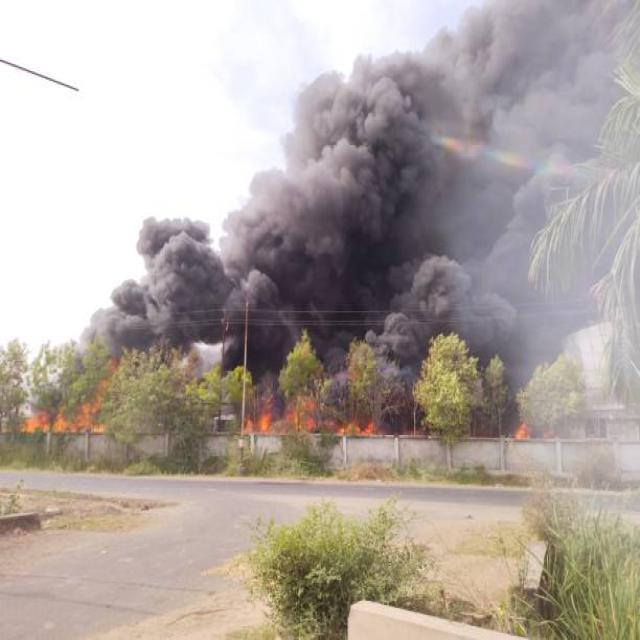Fire: (242, 403, 376, 441), (22, 410, 112, 435), (514, 421, 532, 442)
Smoke: (256, 180, 556, 344), (314, 80, 536, 280), (446, 7, 614, 155), (144, 225, 284, 338), (97, 294, 178, 352)
